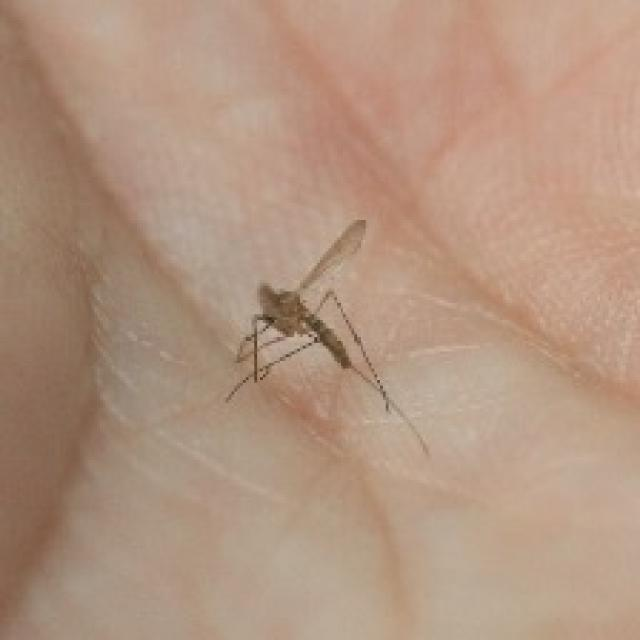culex: (223, 215, 428, 454)
